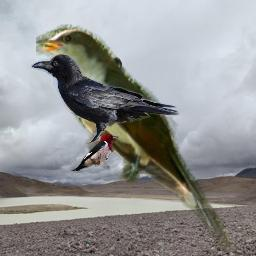Crow: (31, 54, 180, 146)
Cuckoo: (36, 23, 235, 252)
Woodpecker: (70, 133, 120, 171)
